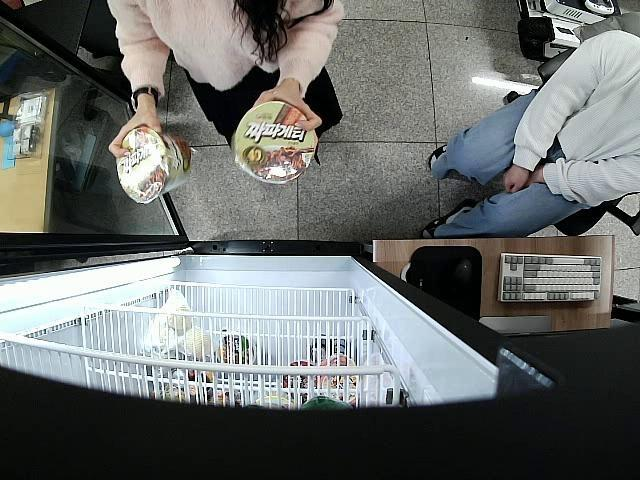03_chapagetti_L: (230, 102, 317, 183), (116, 128, 192, 206)
